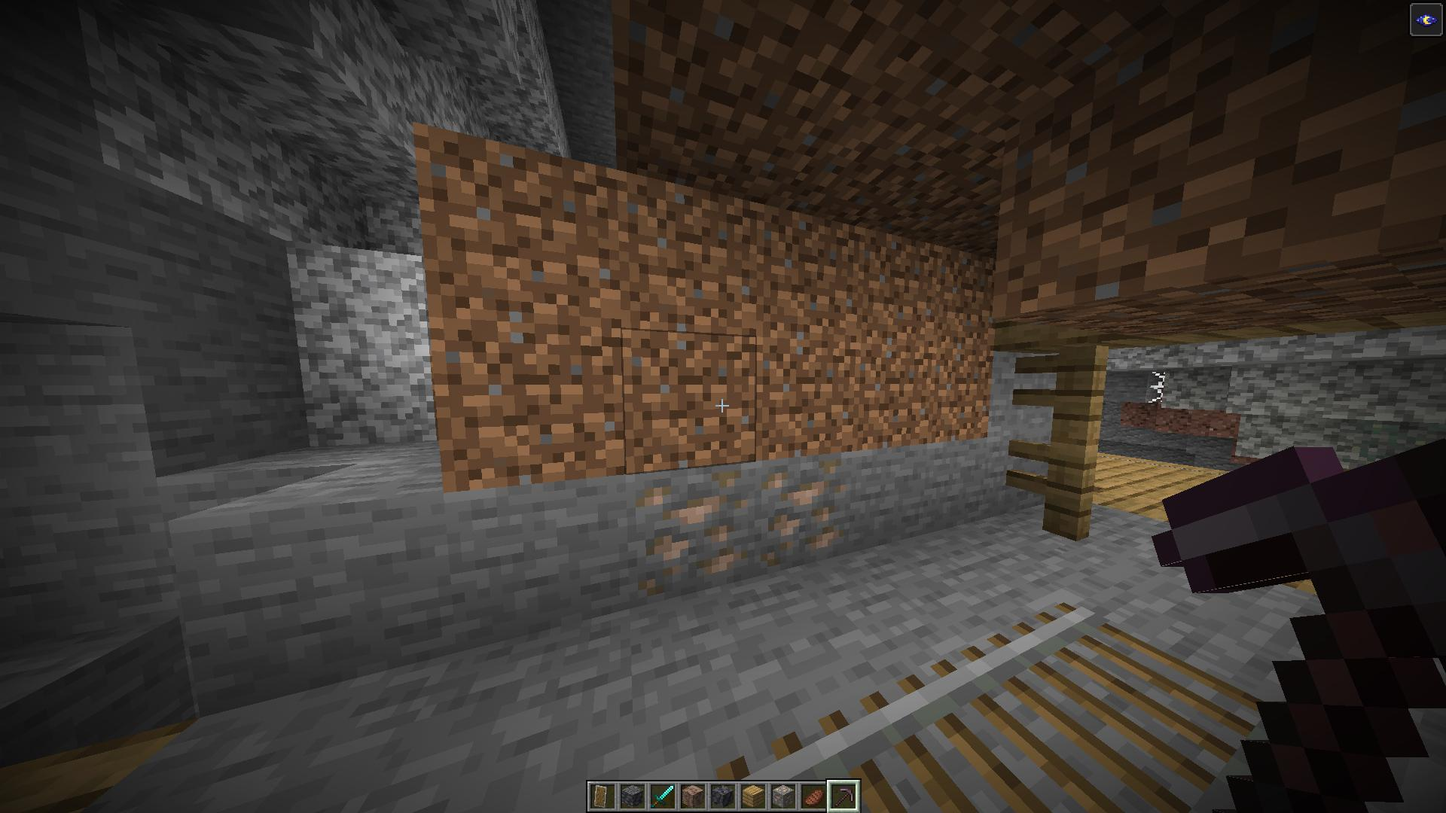iron ore: (634, 463, 759, 603), (760, 454, 844, 571)
